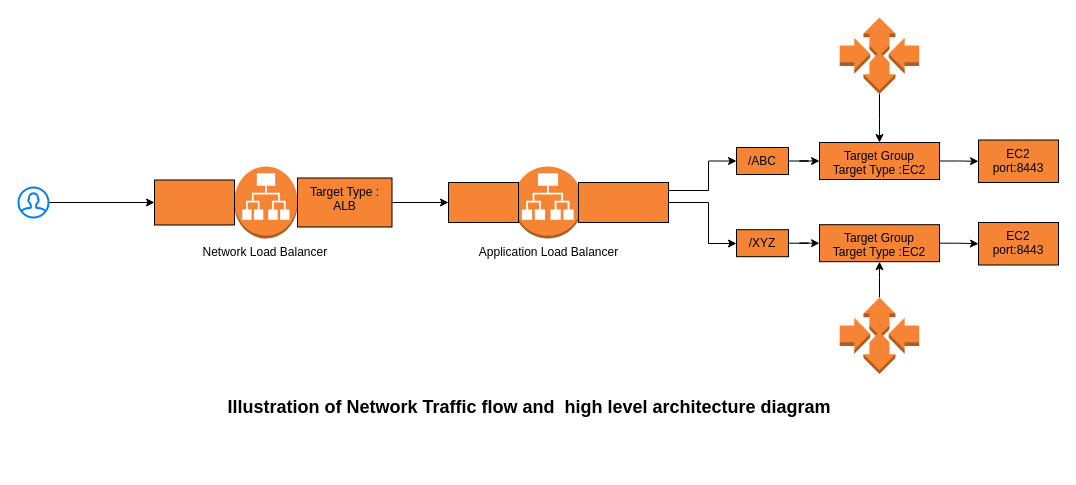
This 1076x485 diagram has some shape labels left out. Each missing label, with the centre of its shape:
"Listeners Https:443" belongs at point 483,202.
"Listeners TCP:443" belongs at point 194,202.
"Rules PATH patterns" belongs at point 623,202.
